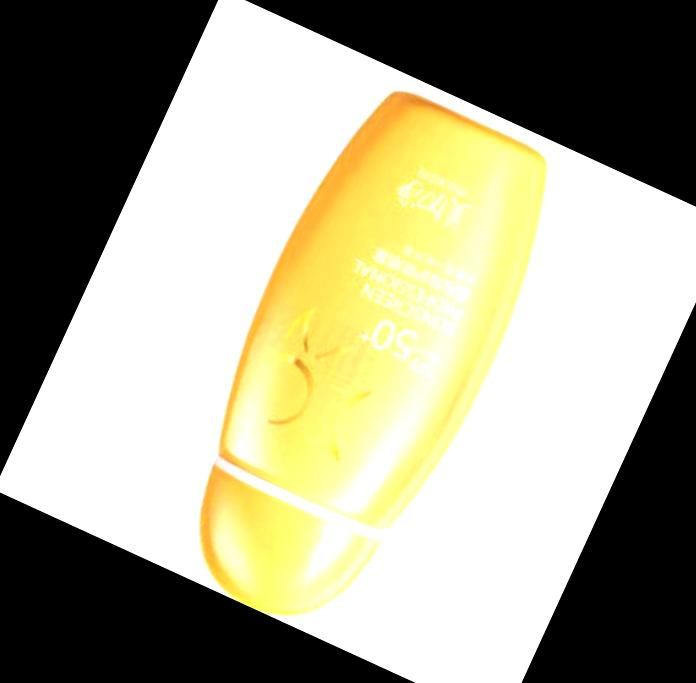cosmetic: (143, 69, 584, 657)
